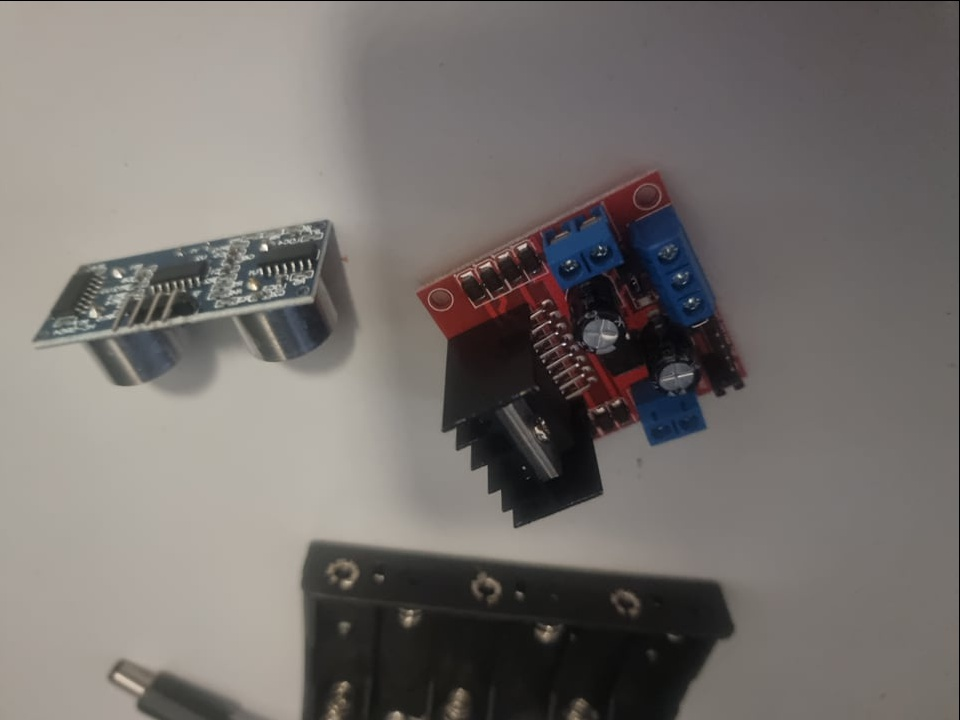BATTERY BOX: (295, 542, 734, 719)
MOTOR: (417, 166, 755, 528)
SENSOR: (32, 211, 341, 391)
